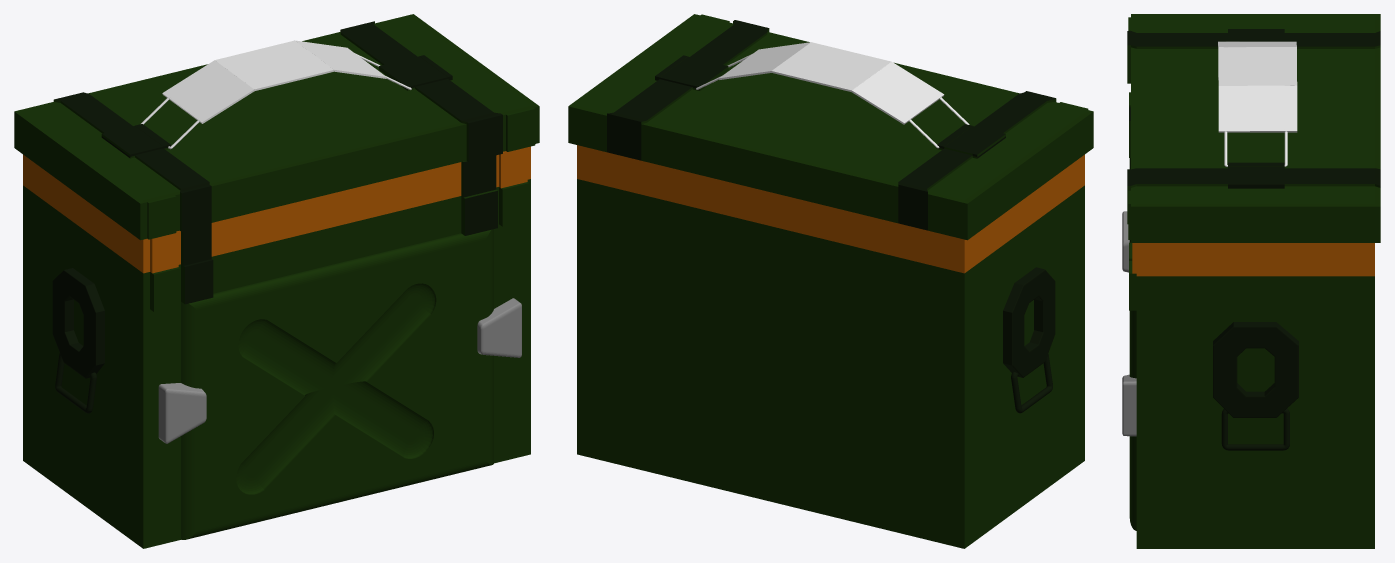
Rendered from BulletBox.fbx.
3 renders of one model, left to right at view 1: azimuth 30°, elevation 25°; view 2: azimuth 150°, elevation 25°; view 3: azimuth 270°, elevation 25°, orthographic.
Parts seen in each view (by area): view 1: Cube.007, Cylinder.008, Cube.008, Cube.010, Cube.011, Cylinder.005; view 2: Cube.007, Cylinder.008, Cube.008, Cylinder.005; view 3: Cube.007, Cylinder.008, Cube.009, Cylinder.006, Cube.011, Cube.010.
Boxes of the visible parts, x1=… form: Cube.007: x1=14, y1=14, x2=539, y2=548; Cylinder.008: x1=141, y1=40, x2=411, y2=149; Cube.008: x1=52, y1=268, x2=104, y2=378; Cube.010: x1=158, y1=383, x2=206, y2=443; Cube.011: x1=477, y1=298, x2=521, y2=357; Cylinder.005: x1=55, y1=353, x2=96, y2=413; Cube.007: x1=568, y1=14, x2=1093, y2=548; Cylinder.008: x1=696, y1=42, x2=969, y2=148; Cube.008: x1=1003, y1=267, x2=1055, y2=377; Cylinder.005: x1=1011, y1=354, x2=1052, y2=413; Cube.007: x1=1127, y1=14, x2=1380, y2=548; Cylinder.008: x1=1218, y1=41, x2=1297, y2=166; Cube.009: x1=1213, y1=322, x2=1298, y2=417; Cylinder.006: x1=1221, y1=408, x2=1289, y2=450; Cube.011: x1=1122, y1=374, x2=1136, y2=436; Cube.010: x1=1122, y1=211, x2=1129, y2=272.
Bounding box in the file's own units: 585 × 532 × 321.
